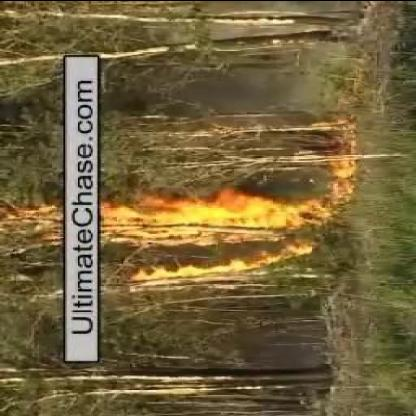foggia-v2-map80-epoch100 - v1 4323: (104, 185, 330, 282), (0, 194, 58, 243)
